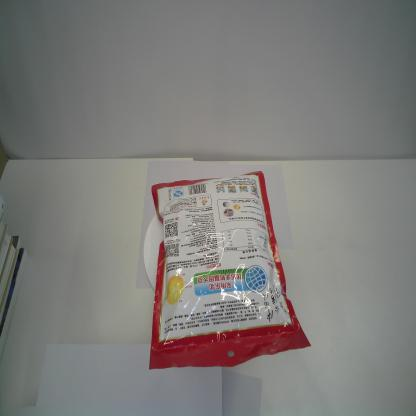Instant Drink: (146, 169, 312, 373)
